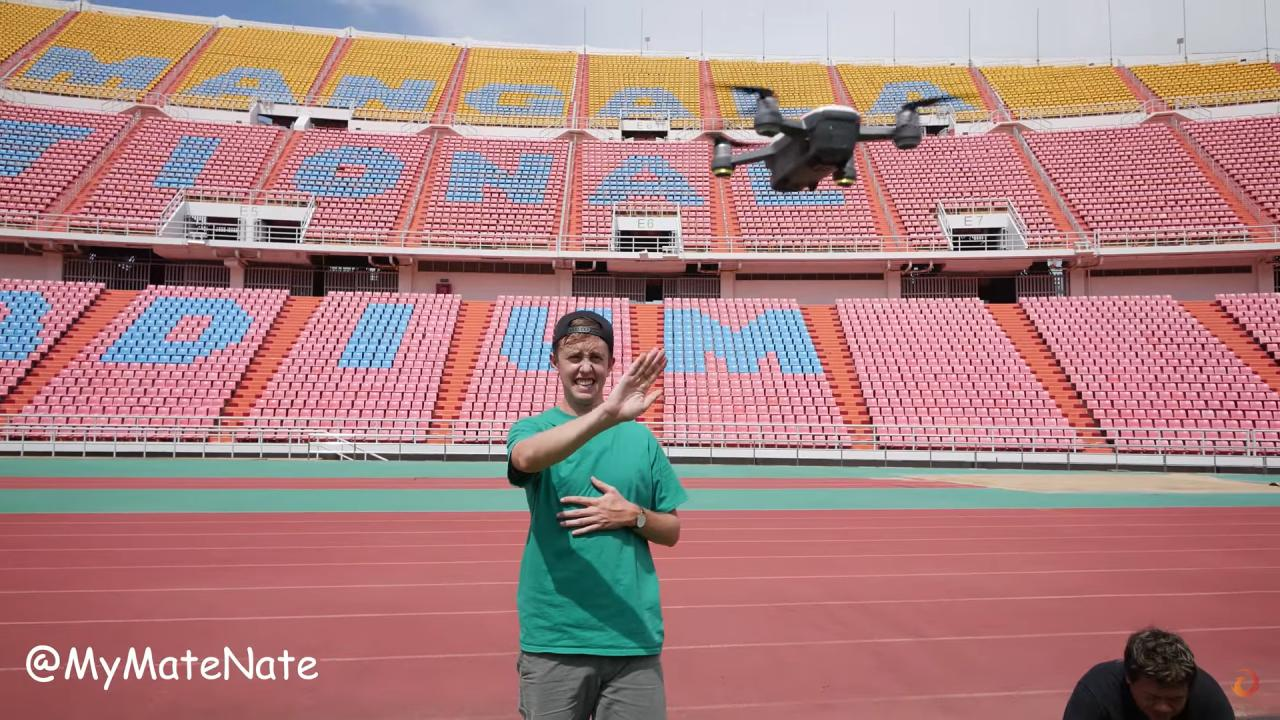Drone: (681, 72, 981, 199)
